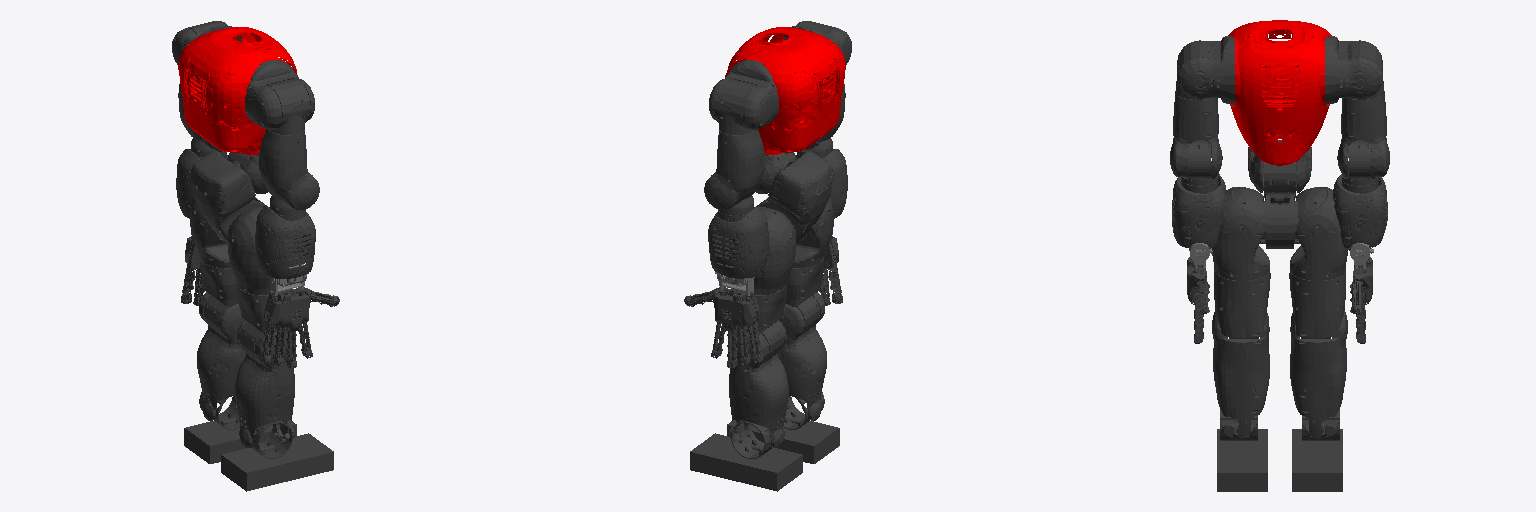
--- Facts derived from the render (not from the file) ---
3 views of the same robot in one strip: view 1: azimuth 30°, elevation 25°; view 2: azimuth 150°, elevation 25°; view 3: azimuth 270°, elevation 25° (orthographic).
Model coman with 63 links and 62 joints (29 revolute, 33 fixed), rooted at Waist, posed every joint at zero.
Links seen in each view (by area): view 1: DWYTorso, RLowLeg, RFoot, Waist, LLowLeg, RForearm, RShy, RSoftHand, RShp, RThighUpLeg, LFoot, LThighLowLeg (+8 smaller); view 2: DWYTorso, LLowLeg, LFoot, Waist, RLowLeg, LForearm, LShy, LSoftHand, LShp, LThighUpLeg, RFoot, RThighLowLeg (+8 smaller); view 3: DWYTorso, RLowLeg, LLowLeg, RThighUpLeg, LThighUpLeg, RForearm, LForearm, RThighLowLeg, LThighLowLeg, LShy, RShy, RShp (+16 smaller).
Boxes of the visible links, x1,y1,x2,y2 form: DWYTorso: (178, 27, 297, 154); RLowLeg: (235, 320, 294, 447); RFoot: (221, 433, 333, 491); Waist: (191, 151, 267, 242); LLowLeg: (197, 292, 245, 420); RForearm: (255, 206, 315, 283); RShy: (259, 128, 319, 209); RSoftHand: (260, 287, 339, 368); RShp: (245, 60, 314, 129); RThighUpLeg: (228, 217, 294, 294); LFoot: (184, 420, 296, 463); LThighLowLeg: (200, 259, 238, 334); DWYTorso: (725, 27, 845, 154); LLowLeg: (729, 320, 788, 447); LFoot: (690, 433, 802, 491); Waist: (756, 151, 832, 242); RLowLeg: (778, 292, 826, 420); LForearm: (708, 206, 768, 283); LShy: (704, 128, 764, 209); LSoftHand: (684, 287, 763, 368); LShp: (709, 60, 778, 129); LThighUpLeg: (729, 217, 795, 294); RFoot: (727, 420, 839, 463); RThighLowLeg: (785, 259, 823, 334); DWYTorso: (1228, 20, 1331, 165); RLowLeg: (1212, 311, 1269, 437); LLowLeg: (1290, 311, 1347, 437); RThighUpLeg: (1211, 187, 1269, 280); LThighUpLeg: (1290, 187, 1348, 280); RForearm: (1172, 173, 1226, 250); LForearm: (1333, 173, 1387, 250); RThighLowLeg: (1214, 271, 1270, 338); LThighLowLeg: (1289, 271, 1345, 338); LShy: (1337, 93, 1389, 176); RShy: (1170, 93, 1222, 176); RShp: (1177, 36, 1234, 104).
Size in the robot's own frame: 0.2484 by 0.4296 by 0.9235 metres.
30 mesh visuals loaded from 17 distinct referenced files (17 binary STL).

URDF robot description (coman):
<?xml version="1.0" ?>
<!-- =================================================================================== -->
<!-- |    This document was autogenerated by xacro from coman.urdf.xacro               | -->
<!-- |    EDITING THIS FILE BY HAND IS NOT RECOMMENDED                                 | -->
<!-- =================================================================================== -->
<robot name="coman" xmlns:xacro="http://ros.org/wiki/xacro">
  <!-- 
  ROS urdf definition of the COMAN humanoid robot by Istituto Italiano di Tecnologia
  
  DO NOT INCLUDE THIS FILE DIRECTLY! USE coman_robot.urdf.xacro INSTEAD!

  Author: Enrico Mingo & Alessio Rocchi

  Inertial matrix has to be in CoM frame (URDF specs)

  Velocity and effort limits are fake!
-->
  <!-- ************ MODEL CONFIGURATION ************ -->
  <!--
####################################################
##
##  FEET SELECTION
##
##
##
####################################################
-->
  <!--
####################################################
##
##  FOREARMS & HANDS SELECTION
##
##
##
####################################################
-->
  <!--
####################################################
##
##  Xtion SELECTION
##
##
## options:
## 1) COMAN classic without the staff to carry the sensor. 
##      Torso frame is connected to gaze link through a gaze_joint "fixed"
## 2) COMAN with staff and xtion sensor. Torso frame is connected to a xtion_staff_link through
##      a xtion_staff_joint "fixed". Xtion_staff_link is then connected to gaze_link through gaze_joint "fixed". 
##
####################################################
#
# 1/2 (true/false) 
#
-->
  <!-- ***********  MODEL COLORS *********** -->
  <material name="grey">
    <color rgba="0.5 0.5 0.5 1"/>
  </material>
  <material name="dark_grey">
    <color rgba="0.3 0.3 0.3 1"/>
  </material>
  <material name="dark_gray">
    <color rgba="0.3 0.3 0.3 1"/>
  </material>
  <material name="red">
    <color rgba="1.0 0.0 0.0 1"/>
  </material>
  <!-- Head -->
  <!-- This links are defined in order to be compliant with http://www.ros.org/reps/rep-0120.html#coordinate-frames
and to define the end effectors of the robot.
The coordinate frame called gaze defines the head position and orientation. The orientation indicates in which direction the head appears to be looking regardless of any sensors (camera for instance). -->
  <link name="gaze">
    <inertial>
      <origin rpy="0.0 0.0 0.0" xyz="0.0 0.0 0.0"/>
      <mass value="0.0"/>
      <inertia ixx="0.0" ixy="0.0" ixz="0.0" iyy="0.0" iyz="0.0" izz="0.0"/>
    </inertial>
  </link>
  <joint name="gaze_joint" type="fixed">
    <parent link="torso"/>
    <child link="gaze"/>
    <origin rpy="0 0 0" xyz="0 0 0.1"/>
  </joint>
  <!-- ************ COMAN BASE ************** -->
  <!-- 
  ROS urdf definition of the COMAN humanoid robot by Istituto Italiano di Tecnologia
  
  DO NOT INCLUDE THIS FILE DIRECTLY! USE coman_robot.urdf.xacro INSTEAD!

  Author: Enrico Mingo & Alessio Rocchi

  Inertial matrix has to be in CoM frame (URDF specs)

  Velocity and effort limits are fake!
-->
  <!-- This links are defined in order to be compliant with http://www.ros.org/reps/rep-0120.html#coordinate-frames
and to define the end effectors of the robot

The coordinate frame called base_link is rigidly attached to the robot root body. It is recommended to choose the robot waist as its root body. The base_link can be attached to the root in any arbitrary position or orientation; for every hardware platform there will be a different place on the base that provides an obvious point of reference. Note that REP 103 [1] specifies a preferred orientation for frames. -->
  <!--link name="base_link"--> <!-- if you put mass/inertia to 0 for the base_link in pybullet then the robot will not be affected by gravity (i.e. it will float). Just removing the base_link fixes the problem.>
    <inertial>
      <origin rpy="0.0 0.0 0.0" xyz="0.0 0.0 0.0"/>
      <mass value="0.0000001"/>
      <inertia ixx="0.0000001" ixy="0.0" ixz="0.0" iyy="0.0000001" iyz="0.0" izz="0.0000001"/>
    </inertial>
  </link-->
  <link name="Waist">
    <inertial>
      <origin rpy="0.0 0.0 0.0" xyz="-0.026391145 -5.8216364E-4 0.052632312"/>
      <mass value="1.8008695"/>
      <inertia ixx="0.0051032982" ixy="-5.7170981E-5" ixz="0.0016920543" iyy="0.006241636" iyz="1.7225949E-5" izz="0.0024517762"/>
    </inertial>
    <visual>
      <origin rpy="0 0 3.14159265359" xyz="0 0 -0.52"/>
      <material name="dark_grey"/>
      <geometry name="Waist_visual">
        <mesh filename="meshes/Waist.STL" scale="0.03937 0.03937 0.03937"/>
      </geometry>
    </visual>
    <collision>
      <origin rpy="0 0 3.14159265359" xyz="0 0 -0.52"/>
      <geometry name="Waist_collision">
        <mesh filename="meshes/simple/Waist.STL" scale="0.03937 0.03937 0.03937"/>
      </geometry>
    </collision>
  </link>
  <!--joint name="base_joint" type="fixed">
    <parent link="base_link"/>
    <child link="Waist"/>
    <origin rpy="0 0 0" xyz="0 0 0"/>
  </joint-->
  <!-- ********************TORSO******************** -->
  <!-- first real link of the robot, inertial reference frame -->
  <!-- Scale factor for meshes -->
  <!-- LINKS -->
  <!-- The coordinate frame called torso is attached to the lowest body of the model which is a parent of l_gripper, r_gripper and gaze. -->
  <link name="torso">
    <inertial>
      <origin rpy="0.0 0.0 0.0" xyz="0.0 0.0 0.0"/>
      <mass value="0.0"/>
      <inertia ixx="0.0" ixy="0.0" ixz="0.0" iyy="0.0" iyz="0.0" izz="0.0"/>
    </inertial>
  </link>
  <link name="DWL">
    <inertial>
      <origin rpy="0 0 0" xyz="4.2999707E-4 -0.0097650317 0.033011157"/>
      <mass value="0.54588774"/>
      <inertia ixx="9.7126578E-4" ixy="-7.2101244E-7" ixz="1.1440119E-6" iyy="7.4686706E-4" iyz="-1.7450917E-4" izz="6.2196235E-4"/>
    </inertial>
    <visual>
      <origin rpy="0 0 3.14159265359" xyz="-0.020281504 0 -0.63912053"/>
      <material name="dark_grey"/>
      <geometry name="DWL_visual">
        <mesh filename="meshes/Torso1.STL" scale="0.03937 0.03937 0.03937"/>
      </geometry>
    </visual>
    <collision>
      <origin rpy="0 0 3.14159265359" xyz="-0.020281504 0 -0.63912053"/>
      <geometry name="DWL_collision">
        <mesh filename="meshes/simple/Torso1.STL" scale="0.03937 0.03937 0.03937"/>
      </geometry>
    </collision>
  </link>
  <link name="DWS">
    <inertial>
      <origin rpy="0 0 0" xyz="-0.0021273416 0.0033575235 -0.0010076896"/>
      <mass value="0.75398402"/>
      <inertia ixx="3.4093348E-4" ixy="-6.2120042E-6" ixz="-1.3863473E-6" iyy="3.9581916E-4" iyz="1.443019E-6" izz="3.7449753E-4"/>
    </inertial>
    <visual>
      <origin rpy="0 0 3.14159265359" xyz="-0.020281504 0 -0.63912053"/>
      <material name="dark_grey"/>
      <geometry name="DWS_visual">
        <mesh filename="meshes/Torso2.STL" scale="0.03937 0.03937 0.03937"/>
      </geometry>
    </visual>
    <collision>
      <origin rpy="0 0 3.14159265359" xyz="-0.020281504 0 -0.63912053"/>
      <geometry name="DWS_collision">
        <mesh filename="meshes/simple/Torso2.STL" scale="0.03937 0.03937 0.03937"/>
      </geometry>
    </collision>
  </link>
  <link name="DWYTorso">
    <inertial>
      <origin rpy="0 0 0" xyz="-0.0358501 1.8286043E-5 0.117557148"/>
      <mass value="6.3617175"/>
      <inertia ixx="0.034089342" ixy="-9.8308572E-6" ixz="-7.5649290E-4" iyy="0.030117357" iyz="6.2443771E-6" izz="0.025296582"/>
    </inertial>
    <visual>
      <origin rpy="0 0 3.14159265359" xyz="-0.020281504 0.0 -0.68662053"/>
      <material name="red"/>
      <geometry name="DWYTorso_visual">
        <mesh filename="meshes/Torso3.STL" scale="0.03937 0.03937 0.03937"/>
      </geometry>
    </visual>
    <collision>
      <origin rpy="0 0 3.14159265359" xyz="-0.020281504 0.0 -0.68662053"/>
      <geometry name="DWYTorso_collision">
        <mesh filename="meshes/simple/Torso3.STL" scale="0.03937 0.03937 0.03937"/>
      </geometry>
    </collision>
  </link>
  <!-- JOINTS -->
  <joint name="torso_joint" type="fixed">
    <parent link="DWYTorso"/>
    <child link="torso"/>
    <origin rpy="0 0 0" xyz="-0.014976503999999998 0 0.15770847"/>
  </joint>
  <joint name="WaistLat" type="revolute">
    <parent link="Waist"/>
    <child link="DWL"/>
    <origin rpy="0 0 0" xyz="0.020281504 0 0.11912053"/>
    <axis xyz="0.93969262078 0 0.34202014332"/>
    <limit effort="50" lower="-0.5236" upper="0.5235" velocity="4.0"/>
    <!-- dynamics friction="0" damping="0.3"/ -->
    <dynamics damping="3.0" friction="0"/>
  </joint>
  <joint name="WaistSag" type="revolute">
    <parent link="DWL"/>
    <child link="DWS"/>
    <origin rpy="0 0 0" xyz="0 0 0"/>
    <axis xyz="0 1 0"/>
    <limit effort="50" lower="-0.3491" upper="0.8727" velocity="4.0"/>
    <dynamics damping="3.0" friction="0"/>
  </joint>
  <joint name="WaistYaw" type="revolute">
    <parent link="DWS"/>
    <child link="DWYTorso"/>
    <origin rpy="0 0 0" xyz="0 0 0.04749999"/>
    <axis xyz="0 0 1"/>
    <limit effort="50" lower="-1.3963" upper="1.3962" velocity="4.0"/>
    <dynamics damping="3.0" friction="0"/>
  </joint>
  <!-- ********************LEGS******************** -->
  <!-- This links are defined in order to be compliant with http://www.ros.org/reps/rep-0120.html#coordinate-frames
and to define the end effectors of the robot -->
  <!--  position and orientation of the leg regardless of the support body geometry -->
  <link name="l_ankle">
    <inertial>
      <origin rpy="0.0 0.0 0.0" xyz="0.0 0.0 0.0"/>
      <mass value="0.0"/>
      <inertia ixx="0.0" ixy="0.0" ixz="0.0" iyy="0.0" iyz="0.0" izz="0.0"/>
    </inertial>
  </link>
  <link name="r_ankle">
    <inertial>
      <origin rpy="0.0 0.0 0.0" xyz="0.0 0.0 0.0"/>
      <mass value="0.0"/>
      <inertia ixx="0.0" ixy="0.0" ixz="0.0" iyy="0.0" iyz="0.0" izz="0.0"/>
    </inertial>
  </link>
  <!-- position and orientation of the left leg support body. The (X,Y) plane of this frame must be coplanar with the support body contact surface. It is recommended to choose the origin as the projection of the support body origin on the contact surface. The Z coordinate of this frame should be on the ground level when standing. -->
  <link name="l_sole">
    <inertial>
      <origin rpy="0.0 0.0 0.0" xyz="0.0 0.0 0.0"/>
      <mass value="0.0"/>
      <inertia ixx="0.0" ixy="0.0" ixz="0.0" iyy="0.0" iyz="0.0" izz="0.0"/>
    </inertial>
  </link>
  <link name="r_sole">
    <inertial>
      <origin rpy="0.0 0.0 0.0" xyz="0.0 0.0 0.0"/>
      <mass value="0.0"/>
      <inertia ixx="0.0" ixy="0.0" ixz="0.0" iyy="0.0" iyz="0.0" izz="0.0"/>
    </inertial>
  </link>
  <!--  position and orientation of the leg toe body. The (X,Y) plan of this frame must be coplanar with the toe body contact surface. It is recommended to choose the origin as the projection of the body center on the contact surface. -->
  <link name="l_toe">
    <inertial>
      <origin rpy="0.0 0.0 0.0" xyz="0.0 0.0 0.0"/>
      <mass value="0.0"/>
      <inertia ixx="0.0" ixy="0.0" ixz="0.0" iyy="0.0" iyz="0.0" izz="0.0"/>
    </inertial>
  </link>
  <link name="r_toe">
    <inertial>
      <origin rpy="0.0 0.0 0.0" xyz="0.0 0.0 0.0"/>
      <mass value="0.0"/>
      <inertia ixx="0.0" ixy="0.0" ixz="0.0" iyy="0.0" iyz="0.0" izz="0.0"/>
    </inertial>
  </link>
  <!-- Scale factor for meshes -->
  <!-- LINKS -->
  <!-- ********************RIGHT LEG******************** -->
  <link name="RHipMot">
    <inertial>
      <origin rpy="0 0 0" xyz="-3.269678E-4 -0.023587321 -2.6496509E-4"/>
      <mass value="0.89258227"/>
      <inertia ixx="4.7672294E-4" ixy="-3.9936567E-6" ixz="-2.4802574E-6" iyy="5.458038E-4" iyz="-3.3389575E-6" izz="5.126859E-4"/>
    </inertial>
    <visual>
      <origin rpy="0 0 3.14159265359" xyz="0.0 0.023 -0.52"/>
      <material name="dark_grey"/>
      <geometry name="RHipMot_visual">
        <mesh filename="meshes/Leg0.STL" scale="0.03937 0.03937 0.03937"/>
      </geometry>
    </visual>
    <collision>
      <origin rpy="0 0 3.14159265359" xyz="0.0 0.023 -0.52"/>
      <geometry name="RHipMot_collision">
        <mesh filename="meshes/simple/Leg0.STL" scale="0.03937 0.03937 0.03937"/>
      </geometry>
    </collision>
  </link>
  <link name="RThighUpLeg">
    <inertial>
      <origin rpy="0 0 0" xyz="0.0012591632 -0.016896372 -0.058903336"/>
      <mass value="1.0246101"/>
      <inertia ixx="9.165719E-4" ixy="-1.4449904E-6" ixz="-1.6685011E-5" iyy="0.00104849584" iyz="2.5492874E-5" izz="6.8637197E-4"/>
    </inertial>
    <visual>
      <origin rpy="0 0 3.14159265359" xyz="0.0 0.0726 -0.52"/>
      <material name="dark_grey"/>
      <geometry name="RThighUpLeg_visual">
        <mesh filename="meshes/Leg1.STL" scale="0.03937 0.03937 0.03937"/>
      </geometry>
    </visual>
    <collision>
      <origin rpy="0 0 3.14159265359" xyz="0.0 0.0726 -0.52"/>
      <geometry name="RThighUpLeg_collision">
        <mesh filename="meshes/simple/Leg1.STL" scale="0.03937 0.03937 0.03937"/>
      </geometry>
    </collision>
  </link>
  <link name="RThighLowLeg">
    <inertial>
      <origin rpy="0 0 0" xyz="9.8720058E-4 6.7037262E-4 -0.075716843"/>
      <mass value="1.7001134"/>
      <inertia ixx="0.0038979546" ixy="1.7802399E-6" ixz="2.6403262E-5" iyy="0.0039360845" iyz="4.522711E-5" izz="9.0218711E-4"/>
    </inertial>
    <visual>
      <origin rpy="0 0 3.14159265359" xyz="0.0 0.0726 -0.4176"/>
      <material name="dark_grey"/>
      <geometry name="RThighLowLeg_visual">
        <mesh filename="meshes/Leg2.STL" scale="0.03937 0.03937 0.03937"/>
      </geometry>
    </visual>
    <collision>
      <origin rpy="0 0 3.14159265359" xyz="0.0 0.0726 -0.4176"/>
      <geometry name="RThighLowLeg_collision">
        <mesh filename="meshes/simple/Leg2.STL" scale="0.03937 0.03937 0.03937"/>
      </geometry>
    </collision>
  </link>
  <link name="RLowLeg">
    <inertial>
      <origin rpy="0 0 0" xyz="0.0024612666 -0.0053099614 -0.08598948"/>
      <mass value="1.4098179"/>
      <inertia ixx="0.0040604004" ixy="1.1227206E-5" ixz="1.2260973E-5" iyy="0.004005652855" iyz="5.1899176E-4" izz="0.0012414054"/>
    </inertial>
    <visual>
      <origin rpy="0 0 3.14159265359" xyz="0.0 0.0726 -0.2942"/>
      <material name="dark_grey"/>
      <geometry name="RLowLeg_visual">
        <mesh filename="meshes/Leg3.STL" scale="0.03937 0.03937 0.03937"/>
      </geometry>
    </visual>
    <collision>
      <origin rpy="0 0 3.14159265359" xyz="0.0 0.0726 -0.2942"/>
      <geometry name="RLowLeg_collision">
        <mesh filename="meshes/simple/Leg3.STL" scale="0.03937 0.03937 0.03937"/>
      </geometry>
    </collision>
  </link>
  <link name="RFootmot">
    <inertial>
      <origin rpy="0 0 0" xyz="8.8067281E-4 -9.2224881E-4 2.3038476E-4"/>
      <mass value="0.72992131"/>
      <inertia ixx="3.2034425E-4" ixy="7.6346303E-6" ixz="2.5430158E-7" iyy="3.6584358E-4" iyz="-3.6889276E-6" izz="3.6065156E-4"/>
    </inertial>
    <visual>
      <origin rpy="0 0 3.14159265359" xyz="0.0 0.0726 -0.0932"/>
      <material name="dark_grey"/>
      <geometry name="RFootmot_visual">
        <mesh filename="meshes/Leg4.STL" scale="0.03937 0.03937 0.03937"/>
      </geometry>
    </visual>
    <collision>
      <origin rpy="0 0 3.14159265359" xyz="0.0 0.0726 -0.0932"/>
      <geometry name="RFootmot_collision">
        <mesh filename="meshes/simple/Leg4.STL" scale="0.03937 0.03937 0.03937"/>
      </geometry>
    </collision>
  </link>
  <link name="RFoot">
    <inertial>
      <origin rpy="0 0 0" xyz="0.00969210464 -0.0090460227 -0.043062308"/>
      <mass value="0.66646684"/>
      <inertia ixx="0.0012944808" ixy="-9.2387693E-5" ixz="2.0080105E-4" iyy="0.0015851846" iyz="2.7599327E-4" izz="0.0013326766"/>
    </inertial>
    <visual>
      <origin rpy="0 0 0" xyz="0.03 0 -0.07"/>
      <geometry>
        <box size="0.2 0.1 0.04"/>
      </geometry>
      <material name="dark_gray"/>
    </visual>
    <collision>
      <origin rpy="0 0 0" xyz="0.03 0 -0.07"/>
      <geometry>
        <box size="0.2 0.1 0.04"/>
      </geometry>
    </collision>
  </link>
  <!-- ********************LEFT LEG******************** -->
  <link name="LHipMot">
    <inertial>
      <origin rpy="0 0 0" xyz="-3.269678E-4 0.023587321 -2.6496509E-4"/>
      <mass value="0.89258227"/>
      <inertia ixx="4.7672294E-4" ixy="3.9936567E-6" ixz="-2.4802574E-6" iyy="5.458038E-4" iyz="3.3389575E-6" izz="5.126859E-4"/>
    </inertial>
    <visual>
      <origin rpy="0 0 3.14159265359" xyz="0.0 -0.023 -0.52"/>
      <material name="dark_grey"/>
      <geometry name="RHipMot_visual">
        <mesh filename="meshes/Leg0.STL" scale="0.03937 -0.03937 0.03937"/>
      </geometry>
    </visual>
    <collision>
      <origin rpy="0 0 3.14159265359" xyz="0.0 -0.023 -0.52"/>
      <geometry name="RHipMot_collision">
        <mesh filename="meshes/simple/Leg0.STL" scale="0.03937 -0.03937 0.03937"/>
      </geometry>
    </collision>
  </link>
  <link name="LThighUpLeg">
    <inertial>
      <origin rpy="0 0 0" xyz="0.0012591632 0.016896372 -0.058903336"/>
      <mass value="1.0246101"/>
      <inertia ixx="9.165719E-4" ixy="1.4449904E-6" ixz="-1.6685011E-5" iyy="0.00104849584" iyz="-2.5492874E-5" izz="6.8637197E-4"/>
    </inertial>
    <visual>
      <origin rpy="0 0 3.14159265359" xyz="0.0 -0.0726 -0.52"/>
      <material name="dark_grey"/>
      <geometry name="LThighUpLeg_visual">
        <mesh filename="meshes/Leg1.STL" scale="0.03937 -0.03937 0.03937"/>
      </geometry>
    </visual>
    <collision>
      <origin rpy="0 0 3.14159265359" xyz="0.0 -0.0726 -0.52"/>
      <geometry name="LThighUpLeg_collision">
        <mesh filename="meshes/simple/Leg1.STL" scale="0.03937 -0.03937 0.03937"/>
      </geometry>
    </collision>
  </link>
  <link name="LThighLowLeg">
    <inertial>
      <origin rpy="0 0 0" xyz="9.8720058E-4 -6.7037262E-4 -0.075716843"/>
      <mass value="1.7001134"/>
      <inertia ixx="0.0038979546" ixy="-1.7802399E-6" ixz="2.6403262E-5" iyy="0.0039360845" iyz="-4.5227110E-5" izz="9.0218711E-4"/>
    </inertial>
    <visual>
      <origin rpy="0 0 3.14159265359" xyz="0.0 -0.0726 -0.4176"/>
      <material name="dark_grey"/>
      <geometry name="LThighLowLeg_visual">
        <mesh filename="meshes/Leg2.STL" scale="0.03937 -0.03937 0.03937"/>
      </geometry>
    </visual>
    <collision>
      <origin rpy="0 0 3.14159265359" xyz="0.0 -0.0726 -0.4176"/>
      <geometry name="LThighLowLeg_collision">
        <mesh filename="meshes/simple/Leg2.STL" scale="0.03937 -0.03937 0.03937"/>
      </geometry>
    </collision>
  </link>
  <link name="LLowLeg">
    <inertial>
      <origin rpy="0 0 0" xyz="0.0024612666 0.0053099614 -0.085989484"/>
      <mass value="1.4098179"/>
      <inertia ixx="0.0040604004" ixy="-1.1227206E-5" ixz="1.2260973E-5" iyy="0.004005652855" iyz="-5.1899176E-4" izz="0.0012414054"/>
    </inertial>
    <visual>
      <origin rpy="0 0 3.14159265359" xyz="0.0 -0.0726 -0.2942"/>
      <material name="dark_grey"/>
      <geometry name="LLowLeg_visual">
        <mesh filename="meshes/Leg3.STL" scale="0.03937 -0.03937 0.03937"/>
      </geometry>
    </visual>
    <collision>
      <origin rpy="0 0 3.14159265359" xyz="0.0 -0.0726 -0.2942"/>
      <geometry name="LLowLeg_collision">
        <mesh filename="meshes/simple/Leg3.STL" scale="0.03937 -0.03937 0.03937"/>
      </geometry>
    </collision>
  </link>
  <link name="LFootmot">
    <inertial>
      <origin rpy="0 0 0" xyz="8.8067281E-4 9.2224881E-4 2.3038476E-4"/>
      <mass value="0.72992131"/>
      <inertia ixx="3.2034425E-4" ixy="-7.6346303E-6" ixz="2.5430158E-7" iyy="3.6584358E-4" iyz="3.6889276E-6" izz="3.6065156E-4"/>
    </inertial>
    <visual>
      <origin rpy="0 0 3.14159265359" xyz="0.0 -0.0726 -0.0932"/>
      <material name="dark_grey"/>
      <geometry name="LFootmot_visual">
        <mesh filename="meshes/Leg4.STL" scale="0.03937 -0.03937 0.03937"/>
      </geometry>
    </visual>
    <collision>
      <origin rpy="0 0 3.14159265359" xyz="0.0 -0.0726 -0.0932"/>
      <geometry name="LFootmot_collision">
        <mesh filename="meshes/simple/Leg4.STL" scale="0.03937 -0.03937 0.03937"/>
      </geometry>
    </collision>
  </link>
  <link name="LFoot">
    <inertial>
      <origin rpy="0 0 0" xyz="0.0096921046 0.0090460227 -0.043062308"/>
      <mass value="0.66646684"/>
      <inertia ixx="0.0012944808" ixy="9.2387693E-5" ixz="2.0080105E-4" iyy="0.0015851846" iyz="-2.7599327E-4" izz="0.0013326766"/>
    </inertial>
    <visual>
      <origin rpy="0 0 0" xyz="0.03 0 -0.07"/>
      <geometry>
        <box size="0.2 0.1 0.04"/>
      </geometry>
      <material name="dark_gray"/>
    </visual>
    <collision>
      <origin rpy="0 0 0" xyz="0.03 0 -0.07"/>
      <geometry>
        <box size="0.2 0.1 0.04"/>
      </geometry>
    </collision>
  </link>
  <!-- JOINTS -->
  <!-- ********************RIGHT LEG******************** -->
  <joint name="RHipSag" type="revolute">
    <parent link="Waist"/>
    <child link="RHipMot"/>
    <origin rpy="0 0 0" xyz="0.0 -0.023 0.0"/>
    <axis xyz="0 1 0"/>
    <limit effort="50" lower="-1.9199" upper="0.7854" velocity="4.0"/>
    <dynamics damping="3.0" friction="0"/>
  </joint>
  <joint name="RHipLat" type="revolute">
    <parent link="RHipMot"/>
    <child link="RThighUpLeg"/>
    <origin rpy="0 0 0" xyz="0.0 -0.0496 0.0"/>
    <axis xyz="1 0 0"/>
    <limit effort="50" lower="-1.0472" upper="0.4363" velocity="4.0"/>
    <dynamics damping="3.0" friction="0"/>
  </joint>
  <joint name="RHipYaw" type="revolute">
    <parent link="RThighUpLeg"/>
    <child link="RThighLowLeg"/>
    <origin rpy="0 0 0" xyz="0.0 0.0 -0.1024"/>
    <axis xyz="0 0 1"/>
    <limit effort="50" lower="-0.8727" upper="0.8727" velocity="4.0"/>
    <dynamics damping="3.0" friction="0"/>
  </joint>
  <joint name="RKneeSag" type="revolute">
    <parent link="RThighLowLeg"/>
    <child link="RLowLeg"/>
    <origin rpy="0 0 0" xyz="0.0 0.0 -0.1234"/>
    <axis xyz="0 1 0"/>
    <limit effort="50" lower="-0.1745" upper="1.9199" velocity="4.0"/>
    <dynamics damping="3.0" friction="0"/>
  </joint>
  <joint name="RAnkLat" type="revolute">
    <parent link="RLowLeg"/>
    <child link="RFootmot"/>
    <origin rpy="0 0 0" xyz="0.0 0.0 -0.201"/>
    <axis xyz="1 0 0"/>
    <limit effort="50" lower="-0.6109" upper="0.6109" velocity="4.0"/>
    <dynamics damping="3.0" friction="0"/>
  </joint>
  <joint name="RAnkSag" type="revolute">
    <parent link="RFootmot"/>
    <child link="RFoot"/>
    <origin rpy="0 0 0" xyz="0.0 0.0 0.0"/>
    <axis xyz="0 1 0"/>
    <limit effort="50" lower="-1.2217" upper="1.2217" velocity="4.0"/>
    <dynamics damping="3.0" friction="0"/>
  </joint>
  <!-- ********************LEFT LEG******************** -->
  <joint name="LHipSag" type="revolute">
    <parent link="Waist"/>
    <child link="LHipMot"/>
    <origin rpy="0 0 0" xyz="0.0 0.023 0.0"/>
    <axis xyz="0 1 0"/>
    <limit effort="50" lower="-1.9199" upper="0.7854" velocity="4.0"/>
    <dynamics damping="3.0" friction="0"/>
  </joint>
  <joint name="LHipLat" type="revolute">
    <parent link="LHipMot"/>
    <child link="LThighUpLeg"/>
    <origin rpy="0 0 0" xyz="0.0 0.0496 0.0"/>
    <axis xyz="1 0 0"/>
    <limit effort="50" lower="-0.4363" upper="1.0472" velocity="4.0"/>
    <dynamics damping="3.0" friction="0"/>
  </joint>
  <joint name="LHipYaw" type="revolute">
    <parent link="LThighUpLeg"/>
    <child link="LThighLowLeg"/>
    <origin rpy="0 0 0" xyz="0.0 0.0 -0.1024"/>
    <axis xyz="0 0 1"/>
    <limit effort="50" lower="-0.8727" upper="0.8727" velocity="4.0"/>
    <dynamics damping="3.0" friction="0"/>
  </joint>
  <joint name="LKneeSag" type="revolute">
    <parent link="LThighLowLeg"/>
    <child link="LLowLeg"/>
    <origin rpy="0 0 0" xyz="0.0 0.0 -0.1234"/>
    <axis xyz="0 1 0"/>
    <limit effort="50" lower="-0.1745" upper="1.9199" velocity="4.0"/>
    <dynamics damping="3.0" friction="0"/>
  </joint>
  <joint name="LAnkLat" type="revolute">
    <parent link="LLowLeg"/>
    <child link="LFootmot"/>
    <origin rpy="0 0 0" xyz="0.0 0.0 -0.201"/>
    <axis xyz="1 0 0"/>
    <limit effort="50" lower="-0.6109" upper="0.6109" velocity="4.0"/>
    <dynamics damping="3.0" friction="0"/>
  </joint>
  <joint name="LAnkSag" type="revolute">
    <parent link="LFootmot"/>
    <child link="LFoot"/>
    <origin rpy="0 0 0" xyz="0.0 0.0 0.0"/>
    <axis xyz="0 1 0"/>
    <limit effort="50" lower="-1.2217" upper="1.2217" velocity="4.0"/>
    <dynamics damping="3.0" friction="0"/>
  </joint>
  <joint name="l_ankle_joint" type="fixed">
    <parent link="LFoot"/>
    <child link="l_ankle"/>
    <origin rpy="0 0 0" xyz="0 0 0"/>
  </joint>
  <joint name="r_ankle_joint" type="fixed">
    <parent link="RFoot"/>
    <child link="r_ankle"/>
    <origin rpy="0 0 0" xyz="0 0 0"/>
  </joint>
  <joint name="l_sole_joint" type="fixed">
    <parent link="LFoot"/>
    <child link="l_sole"/>
    <origin rpy="0 0 0" xyz="0 0 -0.09"/>
  </joint>
  <joint name="r_sole_joint" type="fixed">
    <parent link="RFoot"/>
    <child link="r_sole"/>
    <origin rpy="0 0 0" xyz="0 0 -0.09"/>
  </joint>
  <joint name="l_toe_joint" type="fixed">
    <parent link="l_sole"/>
    <child link="l_toe"/>
    <origin rpy="0 0 0" xyz="0.13 0 0"/>
  </joint>
  <joint name="r_toe_joint" type="fixed">
    <parent link="r_sole"/>
    <child link="r_toe"/>
    <origin rpy="0 0 0" xyz="0.13 0 0"/>
  </joint>
  <!-- Reference frames in feet -->
  <!-- macro for reference frames in foot -->
  <!-- macro for one reference frame in foot -->
  <link name="l_foot_upper_right_link">
    <inertial>
      <origin rpy="0.0 0.0 0.0" xyz="0.0 0.0 0.0"/>
      <mass value="0.0"/>
      <inertia ixx="0.0" ixy="0.0" ixz="0.0" iyy="0.0" iyz="0.0" izz="0.0"/>
    </inertial>
  </link>
  <joint name="l_foot_upper_right_joint" type="fixed">
    <origin rpy="0 0 0" xyz="0.13 -0.05 0"/>
    <parent link="l_sole"/>
    <child link="l_foot_upper_right_link"/>
  </joint>
  <!-- macro for one reference frame in foot -->
  <link name="l_foot_upper_left_link">
    <inertial>
      <origin rpy="0.0 0.0 0.0" xyz="0.0 0.0 0.0"/>
      <mass value="0.0"/>
      <inertia ixx="0.0" ixy="0.0" ixz="0.0" iyy="0.0" iyz="0.0" izz="0.0"/>
    </inertial>
  </link>
  <joint name="l_foot_upper_left_joint" type="fixed">
    <origin rpy="0 0 0" xyz="0.13 0.05 0"/>
    <parent link="l_sole"/>
    <child link="l_foot_upper_left_link"/>
  </joint>
  <!-- macro for one reference frame in foot -->
  <link name="l_foot_lower_right_link">
    <inertial>
      <origin rpy="0.0 0.0 0.0" xyz="0.0 0.0 0.0"/>
      <mass value="0.0"/>
      <inertia ixx="0.0" ixy="0.0" ixz="0.0" iyy="0.0" iyz="0.0" izz="0.0"/>
    </inertial>
  </link>
  <joint name="l_foot_lower_right_joint" type="fixed">
    <origin rpy="0 0 0" xyz="-0.07 -0.05 0"/>
    <parent link="l_sole"/>
    <child link="l_foot_lower_right_link"/>
  </joint>
  <!-- macro for one reference frame in foot -->
  <link name="l_foot_lower_left_link">
    <inertial>
      <origin rpy="0.0 0.0 0.0" xyz="0.0 0.0 0.0"/>
      <mass value="0.0"/>
      <inertia ixx="0.0" ixy="0.0" ixz="0.0" iyy="0.0" iyz="0.0" izz="0.0"/>
    </inertial>
  </link>
  <joint name="l_foot_lower_left_joint" type="fixed">
    <origin rpy="0 0 0" xyz="-0.07 0.05 0"/>
    <parent link="l_sole"/>
    <child link="l_foot_lower_left_link"/>
  </joint>
  <!-- macro for reference frames in foot -->
  <!-- macro for one reference frame in foot -->
  <link name="r_foot_upper_right_link">
    <inertial>
      <origin rpy="0.0 0.0 0.0" xyz="0.0 0.0 0.0"/>
      <mass value="0.0"/>
      <inertia ixx="0.0" ixy="0.0" ixz="0.0" iyy="0.0" iyz="0.0" izz="0.0"/>
    </inertial>
  </link>
  <joint name="r_foot_upper_right_joint" type="fixed">
    <origin rpy="0 0 0" xyz="0.13 -0.05 0"/>
    <parent link="r_sole"/>
    <child link="r_foot_upper_right_link"/>
  </joint>
  <!-- macro for one reference frame in foot -->
  <link name="r_foot_upper_left_link">
    <inertial>
      <origin rpy="0.0 0.0 0.0" xyz="0.0 0.0 0.0"/>
      <mass value="0.0"/>
      <inertia ixx="0.0" ixy="0.0" ixz="0.0" iyy="0.0" iyz="0.0" izz="0.0"/>
    </inertial>
  </link>
  <joint name="r_foot_upper_left_joint" type="fixed">
    <origin rpy="0 0 0" xyz="0.13 0.05 0"/>
    <parent link="r_sole"/>
    <child link="r_foot_upper_left_link"/>
  </joint>
  <!-- macro for one reference frame in foot -->
  <link name="r_foot_lower_right_link">
    <inertial>
      <origin rpy="0.0 0.0 0.0" xyz="0.0 0.0 0.0"/>
      <mass value="0.0"/>
      <inertia ixx="0.0" ixy="0.0" ixz="0.0" iyy="0.0" iyz="0.0" izz="0.0"/>
    </inertial>
  </link>
  <joint name="r_foot_lower_right_joint" type="fixed">
    <origin rpy="0 0 0" xyz="-0.07 -0.05 0"/>
    <parent link="r_sole"/>
    <child link="r_foot_lower_right_link"/>
  </joint>
  <!-- macro for one reference frame in foot -->
  <link name="r_foot_lower_left_link">
    <inertial>
      <origin rpy="0.0 0.0 0.0" xyz="0.0 0.0 0.0"/>
      <mass value="0.0"/>
      <inertia ixx="0.0" ixy="0.0" ixz="0.0" iyy="0.0" iyz="0.0" izz="0.0"/>
    </inertial>
  </link>
  <joint name="r_foot_lower_left_joint" type="fixed">
    <origin rpy="0 0 0" xyz="-0.07 0.05 0"/>
    <parent link="r_sole"/>
    <child link="r_foot_lower_left_link"/>
  </joint>
  <!-- ********************ARMS******************** -->
  <!-- Scale factor for meshes -->
  <!-- LINKS -->
  <!-- RIGHT ARM -->
  <link name="RShp">
    <inertial>
      <origin rpy="0 0 0" xyz="0.0099500565 -0.038682024 1.6446924E-4"/>
      <mass value="0.56782202"/>
      <inertia ixx="7.8337456E-4" ixy="1.9035768E-4" ixz="-3.0037676E-6" iyy="6.3399921E-4" iyz="4.3840774E-6" izz="0.001008054"/>
    </inertial>
    <visual>
      <origin rpy="0 0 3.14159265359" xyz="-0.005305 0.0825 -0.844329"/>
      <material name="dark_grey"/>
      <geometry name="RShp_visual">
        <mesh filename="meshes/Arm0.STL" scale="0.03937 0.03937 0.03937"/>
      </geometry>
    </visual>
    <collision>
      <origin rpy="0 0 3.14159265359" xyz="-0.005305 0.0825 -0.844329"/>
      <geometry name="RShp_collision">
        <mesh filename="meshes/simple/Arm0.STL" scale="0.03937 0.03937 0.03937"/>
      </geometry>
    </collision>
  </link>
  <link name="RShr">
    <inertial>
      <origin rpy="0 0 0" xyz="-0.0038936743 2.2022151E-6 -0.0048616005"/>
      <mass value="0.77683752"/>
      <inertia ixx="4.5812904E-4" ixy="-2.4111086E-7" ixz="9.2521185E-6" iyy="4.3089204E-4" iyz="-4.7216950E-7" izz="3.4174855E-4"/>
    </inertial>
    <visual>
      <origin rpy="0 0 3.14159265359" xyz="-0.005305 0.1558 -0.844329"/>
      <material name="dark_grey"/>
      <geometry name="RShr_visual">
        <mesh filename="meshes/Arm1.STL" scale="0.03937 0.03937 0.03937"/>
      </geometry>
    </visual>
    <collision>
      <origin rpy="0 0 3.14159265359" xyz="-0.005305 0.1558 -0.844329"/>
      <geometry name="RShr_collision">
        <mesh filename="meshes/simple/Arm1.STL" scale="0.03937 0.03937 0.03937"/>
      </geometry>
    </collision>
  </link>
  <link name="RShy">
    <inertial>
      <origin rpy="0 0 0" xyz="0.0022714213 -0.0071091517 -0.057455221"/>
      <mass value="1.0462304"/>
      <inertia ixx="0.0030934574" ixy="6.6702837E-5" ixz="3.0222291E-4" iyy="0.0029181573" iyz="-5.2663661E-4" izz="8.0830389E-4"/>
    </inertial>
    <visual>
      <origin rpy="0 0 3.14159265359" xyz="-0.005305 0.1558 -0.79952053"/>
      <material name="dark_grey"/>
      <geometry name="RShy_visual">
        <mesh filename="meshes/Arm2.STL" scale="0.03937 0.03937 0.03937"/>
      </geometry>
    </visual>
    <collision>
      <origin rpy="0 0 3.14159265359" xyz="-0.005305 0.1558 -0.79952053"/>
      <geometry name="RShy_collision">
        <mesh filename="meshes/simple/Arm2.STL" scale="0.03937 0.03937 0.03937"/>
      </geometry>
    </collision>
  </link>
  <link name="RElb">
    <inertial>
      <origin rpy="0 0 0" xyz="-6.5553403E-4 -9.3464748E-4 -9.3101289E-4"/>
      <mass value="0.63306933"/>
      <inertia ixx="2.2599075E-4" ixy="-2.6376470E-7" ixz="-9.8007285E-6" iyy="2.7781302E-4" iyz="-2.0435288E-6" izz="2.1878992E-4"/>
    </inertial>
    <visual>
      <origin rpy="-1.570796326795 1.570796326795 0" xyz="0 0 0"/>
      <material name="dark_grey"/>
      <geometry name="RElb_visual">
        <mesh filename="meshes/Elbow.STL" scale="1.0 1.0 1.0"/>
      </geometry>
    </visual>
    <collision>
      <origin rpy="-1.570796326795 1.570796326795 0" xyz="0 0 0"/>
      <geometry name="RElb_collision">
        <mesh filename="meshes/simple/Elbow.STL" scale="1.0 1.0 1.0"/>
      </geometry>
    </collision>
  </link>
  <!-- LEFT ARM -->
  <link name="LShp">
    <inertial>
      <origin rpy="0 0 0" xyz="0.0099500565 0.038682024 1.6446924E-4"/>
      <mass value="0.56782202"/>
      <inertia ixx="7.8337456E-4" ixy="-1.9035768E-4" ixz="-3.0037676E-6" iyy="6.3399921E-4" iyz="-4.3840774E-6" izz="0.001008054"/>
    </inertial>
    <visual>
      <origin rpy="0 0 3.14159265359" xyz="-0.005305 -0.0825 -0.844329"/>
      <material name="dark_grey"/>
      <geometry name="LShp_visual">
        <mesh filename="meshes/Arm0.STL" scale="0.03937 -0.03937 0.03937"/>
      </geometry>
    </visual>
    <collision>
      <origin rpy="0 0 3.14159265359" xyz="-0.005305 -0.0825 -0.844329"/>
      <geometry name="LShp_collision">
        <mesh filename="meshes/simple/Arm0.STL" scale="0.03937 -0.03937 0.03937"/>
      </geometry>
    </collision>
  </link>
  <link name="LShr">
    <inertial>
      <origin rpy="0 0 0" xyz="-0.0038936743 -2.2022151E-6 -0.0048616005"/>
      <mass value="0.77683752"/>
      <inertia ixx="4.5812904E-4" ixy="2.4111086E-7" ixz="9.2521185E-6" iyy="4.3089204E-4" iyz="4.721695E-7" izz="3.4174855E-4"/>
    </inertial>
    <visual>
      <origin rpy="0 0 3.14159265359" xyz="-0.005305 -0.1558 -0.844329"/>
      <material name="dark_grey"/>
      <geometry name="LShr_visual">
        <mesh filename="meshes/Arm1.STL" scale="0.03937 -0.03937 0.03937"/>
      </geometry>
    </visual>
    <collision>
      <origin rpy="0 0 3.14159265359" xyz="-0.005305 -0.1558 -0.844329"/>
      <geometry name="LShr_collision">
        <mesh filename="meshes/simple/Arm1.STL" scale="0.03937 -0.03937 0.03937"/>
      </geometry>
    </collision>
  </link>
  <link name="LShy">
    <inertial>
      <origin rpy="0 0 0" xyz="0.0022714213 0.0071091517 -0.057455221"/>
      <mass value="1.0462304"/>
      <inertia ixx="0.0030934574" ixy="-6.6702837E-5" ixz="3.0222291E-4" iyy="0.0029181573" iyz="5.2663661E-4" izz="8.0830389E-4"/>
    </inertial>
    <visual>
      <origin rpy="0 0 3.14159265359" xyz="-0.005305 -0.1558 -0.79952053"/>
      <material name="dark_grey"/>
      <geometry name="LShy_visual">
        <mesh filename="meshes/Arm2.STL" scale="0.03937 -0.03937 0.03937"/>
      </geometry>
    </visual>
    <collision>
      <origin rpy="0 0 3.14159265359" xyz="-0.005305 -0.1558 -0.79952053"/>
      <geometry name="LShy_collision">
        <mesh filename="meshes/simple/Arm2.STL" scale="0.03937 -0.03937 0.03937"/>
      </geometry>
    </collision>
  </link>
  <link name="LElb">
    <inertial>
      <origin rpy="0 0 0" xyz="-6.5553403E-4 9.3464748E-4 -9.3101289E-4"/>
      <mass value="0.63306933"/>
      <inertia ixx="2.2599075E-4" ixy="2.6376470E-7" ixz="-9.8007285E-6" iyy="2.7781302E-4" iyz="2.0435288E-6" izz="2.1878992E-4"/>
    </inertial>
    <visual>
      <origin rpy="-1.570796326795 1.570796326795 0" xyz="0 0 0"/>
      <material name="dark_grey"/>
      <geometry name="LElb_visual">
        <mesh filename="meshes/Elbow.STL" scale="1.0 1.0 1.0"/>
      </geometry>
    </visual>
    <collision>
      <origin rpy="-1.570796326795 1.570796326795 0" xyz="0 0 0"/>
      <geometry name="LElb_collision">
        <mesh filename="meshes/simple/Elbow.STL" scale="1.0 1.0 1.0"/>
      </geometry>
    </collision>
  </link>
  <!-- JOINTS -->
  <!-- RIGHT ARM -->
  <joint name="RShSag" type="revolute">
    <parent link="DWYTorso"/>
    <child link="RShp"/>
    <origin rpy="0 0 0" xyz="-0.014976503999999998 -0.0825 0.15770847"/>
    <axis xyz="0 1 0"/>
    <limit effort="50" lower="-3.4034" upper="1.6581" velocity="4.0"/>
    <dynamics damping="3.0" friction="0"/>
  </joint>
  <joint name="RShLat" type="revolute">
    <parent link="RShp"/>
    <child link="RShr"/>
    <origin rpy="0 0 0" xyz="0.0 -0.07329999999999999 0.0"/>
    <axis xyz="1 0 0"/>
    <limit effort="50" lower="-2.094" upper="0.31415" velocity="4.0"/>
    <dynamics damping="3.0" friction="0"/>
  </joint>
  <joint name="RShYaw" type="revolute">
    <parent link="RShr"/>
    <child link="RShy"/>
    <origin rpy="0 0 0" xyz="0.0 0.0 -0.04480846999999999"/>
    <axis xyz="0 0 1"/>
    <limit effort="50" lower="-1.5708" upper="1.5708" velocity="4.0"/>
    <dynamics damping="3.0" friction="0"/>
  </joint>
  <joint name="RElbj" type="revolute">
    <parent link="RShy"/>
    <child link="RElb"/>
    <origin rpy="0 0 0" xyz="0.015 0.0 -0.13519152999999998"/>
    <axis xyz="0 1 0"/>
    <limit effort="50" lower="-2.3562" upper="0.0" velocity="4.0"/>
    <dynamics damping="3.0" friction="0"/>
  </joint>
  <!-- LEFT ARM -->
  <joint name="LShSag" type="revolute">
    <parent link="DWYTorso"/>
    <child link="LShp"/>
    <origin rpy="0 0 0" xyz="-0.014976503999999998 0.0825 0.15770847"/>
    <axis xyz="0 1 0"/>
    <limit effort="50" lower="-3.4034" upper="1.6581" velocity="4.0"/>
    <dynamics damping="3.0" friction="0"/>
  </joint>
  <joint name="LShLat" type="revolute">
    <parent link="LShp"/>
    <child link="LShr"/>
    <origin rpy="0 0 0" xyz="0.0 0.07329999999999999 0.0"/>
    <axis xyz="1 0 0"/>
    <limit effort="50" lower="-0.31415" upper="2.094" velocity="4.0"/>
    <dynamics damping="3.0" friction="0"/>
  </joint>
  <joint name="LShYaw" type="revolute">
    <parent link="LShr"/>
    <child link="LShy"/>
    <origin rpy="0 0 0" xyz="0.0 0.0 -0.04480846999999999"/>
    <axis xyz="0 0 1"/>
    <limit effort="50" lower="-1.5708" upper="1.5708" velocity="4.0"/>
    <dynamics damping="3.0" friction="0"/>
  </joint>
  <joint name="LElbj" type="revolute">
    <parent link="LShy"/>
    <child link="LElb"/>
    <origin rpy="0 0 0" xyz="0.015 0.0 -0.13519152999999998"/>
    <axis xyz="0 1 0"/>
    <limit effort="50" lower="-2.3562" upper="0.0" velocity="4.0"/>
    <dynamics damping="3.0" friction="0"/>
  </joint>
  <!-- ************ FOREARMS ************ -->
  <!-- This links are defined in order to be compliant with http://www.ros.org/reps/rep-0120.html#coordinate-frames
and to define the end effectors of the robot -->
  <!-- position and orientation of the arm regardless of the tool (grasping device for instance) attached to it -->
  <link name="l_wrist">
    <inertial>
      <origin rpy="0.0 0.0 0.0" xyz="0.0 0.0 0.0"/>
      <mass value="0.0"/>
      <inertia ixx="0.0" ixy="0.0" ixz="0.0" iyy="0.0" iyz="0.0" izz="0.0"/>
    </inertial>
  </link>
  <link name="r_wrist">
    <inertial>
      <origin rpy="0.0 0.0 0.0" xyz="0.0 0.0 0.0"/>
      <mass value="0.0"/>
      <inertia ixx="0.0" ixy="0.0" ixz="0.0" iyy="0.0" iyz="0.0" izz="0.0"/>
    </inertial>
  </link>
  <!-- distance from last motor to FT sensor 
		The value needs to be subtracted to the *FOrearmPlate joint z origin,
		and in order to be compensated in the following joint and link,
		it neeeds to be added in return to the following joint (*Wrj1) z origin
		and to the z displacement of mass, visual and collision of *Forearm -->
  <!-- ****************LINKS**************** -->
  <!-- ****************LEFT FOREARM**************** -->
  <!-- ## WRONG NUMBERS FOR INERTIAL!!! FIX THEM!! ## -->
  <!-- In ROBOTRAN this link is named LFARM -->
  <link name="LForearm">
    <inertial>
      <origin rpy="0 0 0" xyz="0 0 -0.0282"/>
      <mass value="0.93351655"/>
      <inertia ixx="0.001" ixy="0.0" ixz="0.0" iyy="0.001" iyz="0.0" izz="0.001"/>
    </inertial>
    <visual>
      <origin rpy="3.14159265359 0 1.570796326795" xyz="0 0 0.0718"/>
      <material name="dark_grey"/>
      <geometry name="LForearm_visual">
        <mesh filename="meshes/Forearm0.STL" scale="0.1 0.1 0.1"/>
      </geometry>
    </visual>
    <collision>
      <origin rpy="0 3.14159265359 1.570796326795" xyz="0 0 0.0718"/>
      <geometry name="LForearm_collision">
        <mesh filename="meshes/simple/Forearm0.STL" scale="1.0 1.0 1.0"/>
      </geometry>
    </collision>
  </link>
  <!-- ## WRONG NUMBERS FOR INERTIAL!!! FIX THEM!! ## -->
  <!-- Here I have used the inertia of a full cylinder with r = 0.02 [m] and h = 0.07 [m] -->
  <link name="LWrMot2">
    <inertial>
      <origin rpy="0 0 0" xyz="0 0 0"/>
      <mass value="0.26070556"/>
      <inertia ixx="0.000132" ixy="0" ixz="0" iyy="0.000132" iyz="0" izz="5.213E-5"/>
    </inertial>
    <visual>
      <origin rpy="0 1.570796326795 3.14159265359" xyz="0.025 0 0"/>
      <material name="grey"/>
      <geometry name="LWrMot2_visual">
        <mesh filename="meshes/Forearm1.STL" scale="0.001 0.001 0.001"/>
      </geometry>
    </visual>
    <collision>
      <origin rpy="0 1.570796326795 3.14159265359" xyz="0.025 0 0"/>
      <geometry name="LWrMot2_collision">
        <mesh filename="meshes/simple/Forearm1.STL" scale="0.001 0.001 0.001"/>
      </geometry>
    </collision>
  </link>
  <!-- ## WRONG NUMBERS FOR INERTIAL!!! FIX THEM!! ## -->
  <!-- Here I have used the inertia of a concave cylinder with r = 0.02 [m] -->
  <link name="LWrMot3">
    <inertial>
      <origin rpy="0 0 0" xyz="0 0 0"/>
      <mass value="0.054007518"/>
      <inertia ixx="2.16E-5" ixy="0" ixz="0" iyy="2.16E-5" iyz="0" izz="2.16E-5"/>
    </inertial>
    <visual>
      <origin rpy="0 3.14159265359 1.570796326795" xyz="0.025 -0.012 -0.02"/>
      <material name="grey"/>
      <geometry name="LWrMot3_visual">
        <mesh filename="meshes/Forearm2.STL" scale="0.001 0.001 0.001"/>
      </geometry>
    </visual>
    <collision>
      <origin rpy="0 3.14159265359 1.570796326795" xyz="0.025 -0.012 -0.02"/>
      <geometry name="LWrMot3_collision">
        <mesh filename="meshes/simple/Forearm2.STL" scale="0.001 0.001 0.001"/>
      </geometry>
    </collision>
  </link>
  <!-- ****************RIGHT FOREARM**************** -->
  <!-- ## WRONG NUMBERS FOR INERTIAL!!! FIX THEM!! ## -->
  <!-- In ROBOTRAN this link is named RFArm -->
  <link name="RForearm">
    <inertial>
      <origin rpy="0 0 0" xyz="0 0 -0.0282"/>
      <mass value="0.93351655"/>
      <inertia ixx="0.001" ixy="0.0" ixz="0.0" iyy="0.001" iyz="0.0" izz="0.001"/>
    </inertial>
    <visual>
      <origin rpy="3.14159265359 0 1.570796326795" xyz="0 0 0.0718"/>
      <material name="dark_grey"/>
      <geometry name="RForearm_visual">
        <mesh filename="meshes/Forearm0.STL" scale="0.1 0.1 0.1"/>
      </geometry>
    </visual>
    <collision>
      <origin rpy="0 3.14159265359 1.570796326795" xyz="0 0 0.0718"/>
      <geometry name="RForearm_collision">
        <mesh filename="meshes/simple/Forearm0.STL" scale="1.0 1.0 1.0"/>
      </geometry>
    </collision>
  </link>
  <!-- ## WRONG NUMBERS FOR INERTIAL!!! FIX THEM!! ## -->
  <!-- Here I have used the inertia of a full cylinder with r = 0.02 [m] and h = 0.07 [m] -->
  <link name="RWrMot2">
    <inertial>
      <origin rpy="0 0 0" xyz="0 0 0"/>
      <mass value="0.26070556"/>
      <inertia ixx="0.000132" ixy="0" ixz="0" iyy="0.000132" iyz="0" izz="5.213E-5"/>
    </inertial>
    <visual>
      <origin rpy="0 1.570796326795 3.14159265359" xyz="0.025 0 0"/>
      <material name="grey"/>
      <geometry name="RWrMot2_visual">
        <mesh filename="meshes/Forearm1.STL" scale="0.001 0.001 0.001"/>
      </geometry>
    </visual>
    <collision>
      <origin rpy="0 1.570796326795 3.14159265359" xyz="0.025 0 0"/>
      <geometry name="RWrMot2_collision">
        <mesh filename="meshes/simple/Forearm1.STL" scale="0.001 0.001 0.001"/>
      </geometry>
    </collision>
  </link>
  <!-- ## WRONG NUMBERS FOR INERTIAL!!! FIX THEM!! ## -->
  <!-- Here I have used the inertia of a concave cylinder with r = 0.02 [m] -->
  <link name="RWrMot3">
    <inertial>
      <origin rpy="0 0 0" xyz="0 0 0"/>
      <mass value="0.054007518"/>
      <inertia ixx="2.16E-5" ixy="0" ixz="0" iyy="2.16E-5" iyz="0" izz="2.16E-5"/>
    </inertial>
    <visual>
      <origin rpy="0 3.14159265359 1.570796326795" xyz="0.025 -0.012 -0.02"/>
      <material name="grey"/>
      <geometry name="RWrMot3_visual">
        <mesh filename="meshes/Forearm2.STL" scale="0.001 0.001 0.001"/>
      </geometry>
    </visual>
    <collision>
      <origin rpy="0 3.14159265359 1.570796326795" xyz="0.025 -0.012 -0.02"/>
      <geometry name="RWrMot3_collision">
        <mesh filename="meshes/simple/Forearm2.STL" scale="0.001 0.001 0.001"/>
      </geometry>
    </collision>
  </link>
  <!-- ****************JOINTS**************** -->
  <!-- ****************LEFT FOREARM**************** -->
  <joint name="LForearmPlate" type="revolute">
    <parent link="LElb"/>
    <child link="LForearm"/>
    <origin rpy="0 0 0" xyz="-0.015 0.0 -0.1078"/>
    <axis xyz="0 0 1"/>
    <limit effort="5" lower="-1.5708" upper="1.5708" velocity="4.0"/>
    <dynamics damping="0.03" friction="0"/>
  </joint>
  <joint name="LWrj1" type="revolute">
    <parent link="LForearm"/>
    <child link="LWrMot2"/>
    <origin rpy="0 0 0" xyz="0 0 -0.08688"/>
    <axis xyz="0 1 0"/>
    <limit effort="5" lower="-0.524" upper="0.524" velocity="4.0"/>
    <dynamics damping="0.03" friction="0"/>
  </joint>
  <joint name="LWrj2" type="revolute">
    <parent link="LWrMot2"/>
    <child link="LWrMot3"/>
    <origin rpy="0 0 0" xyz="0 0 0.0"/>
    <axis xyz="1 0 0"/>
    <limit effort="5" lower="-0.785375" upper="1.395" velocity="4.0"/>
    <dynamics damping="0.03" friction="0"/>
  </joint>
  <joint name="l_wrist_joint" type="fixed">
    <parent link="LWrMot3"/>
    <child link="l_wrist"/>
    <origin rpy="0 0 0" xyz="0 0 0"/>
  </joint>
  <!-- ****************RIGHT FOREARM**************** -->
  <joint name="RForearmPlate" type="revolute">
    <parent link="RElb"/>
    <child link="RForearm"/>
    <origin rpy="0 0 0" xyz="-0.015 0.0 -0.1078"/>
    <axis xyz="0 0 1"/>
    <limit effort="5" lower="-1.5708" upper="1.5708" velocity="4.0"/>
    <dynamics damping="0.03" friction="0"/>
  </joint>
  <joint name="RWrj1" type="revolute">
    <parent link="RForearm"/>
    <child link="RWrMot2"/>
    <origin rpy="0 0 0" xyz="0 0 -0.08688"/>
    <axis xyz="0 1 0"/>
    <limit effort="5" lower="-0.524" upper="0.524" velocity="4.0"/>
    <dynamics damping="0.03" friction="0"/>
  </joint>
  <joint name="RWrj2" type="revolute">
    <parent link="RWrMot2"/>
    <child link="RWrMot3"/>
    <origin rpy="0 0 0" xyz="0 0 0.0"/>
    <axis xyz="1 0 0"/>
    <limit effort="5" lower="-1.395" upper="0.785375" velocity="4.0"/>
    <dynamics damping="0.03" friction="0"/>
  </joint>
  <joint name="r_wrist_joint" type="fixed">
    <parent link="RWrMot3"/>
    <child link="r_wrist"/>
    <origin rpy="0 0 0" xyz="0 0 0"/>
  </joint>
  <link name="l_arm_ft">
    <inertial>
      <origin rpy="0.0 0.0 0.0" xyz="0.0 0.0 0.0"/>
      <mass value="0.0"/>
      <inertia ixx="0.0" ixy="0.0" ixz="0.0" iyy="0.0" iyz="0.0" izz="0.0"/>
    </inertial>
  </link>
  <link name="r_arm_ft">
    <inertial>
      <origin rpy="0.0 0.0 0.0" xyz="0.0 0.0 0.0"/>
      <mass value="0.0"/>
      <inertia ixx="0.0" ixy="0.0" ixz="0.0" iyy="0.0" iyz="0.0" izz="0.0"/>
    </inertial>
  </link>
  <joint name="l_arm_ft_joint" type="fixed">
    <parent link="LForearm"/>
    <child link="l_arm_ft"/>
    <origin rpy="0 0 0" xyz="0 0 0"/>
  </joint>
  <joint name="r_arm_ft_joint" type="fixed">
    <parent link="RForearm"/>
    <child link="r_arm_ft"/>
    <origin rpy="0 0 0" xyz="0 0 0"/>
  </joint>
  <link name="l_leg_ft">
    <inertial>
      <origin rpy="0.0 0.0 0.0" xyz="0.0 0.0 0.0"/>
      <mass value="0.0"/>
      <inertia ixx="0.0" ixy="0.0" ixz="0.0" iyy="0.0" iyz="0.0" izz="0.0"/>
    </inertial>
  </link>
  <link name="r_leg_ft">
    <inertial>
      <origin rpy="0.0 0.0 0.0" xyz="0.0 0.0 0.0"/>
      <mass value="0.0"/>
      <inertia ixx="0.0" ixy="0.0" ixz="0.0" iyy="0.0" iyz="0.0" izz="0.0"/>
    </inertial>
  </link>
  <joint name="l_leg_ft_joint" type="fixed">
    <parent link="LFoot"/>
    <child link="l_leg_ft"/>
    <origin rpy="0 0 0" xyz="0 0 -0.065"/>
  </joint>
  <joint name="r_leg_ft_joint" type="fixed">
    <parent link="RFoot"/>
    <child link="r_leg_ft"/>
    <origin rpy="0 0 0" xyz="0 0 -0.065"/>
  </joint>
  <!-- ************ HANDS ************ -->
  <!-- LINKS -->
  <link name="RSoftHand">
    <inertial>
      <origin rpy="0 0 0" xyz="0 0 0"/>
      <mass value="0.3"/>
      <inertia ixx="0.001" ixy="0" ixz="0" iyy="0.001" iyz="0" izz="0.001"/>
    </inertial>
    <visual>
      <origin rpy="-1.5707963268 0 3.14159265359" xyz="0.007 0.01 -0.04"/>
      <material name="dark_grey"/>
      <geometry name="RSoftHand_visual">
        <mesh filename="meshes/SoftHandOpen.STL" scale="0.1 0.1 0.1"/>
      </geometry>
    </visual>
    <collision>
      <origin rpy="0 0 3.14159265359" xyz="0 0.01 -0.04"/>
      <geometry name="RSoftHand_collision">
        <mesh filename="meshes/simple/SoftHandOpen.STL" scale="1E-3 1E-3 1E-3"/>
      </geometry>
    </collision>
  </link>
  <link name="LSoftHand">
    <inertial>
      <origin rpy="0 0 0" xyz="0 0 0"/>
      <mass value="0.3"/>
      <inertia ixx="0.001" ixy="0" ixz="0" iyy="0.001" iyz="0" izz="0.001"/>
    </inertial>
    <visual>
      <origin rpy="-1.5707963268 0 0" xyz="0.007 -0.01 -0.04"/>
      <material name="dark_grey"/>
      <geometry name="LSoftHand_visual">
        <mesh filename="meshes/SoftHandOpen.STL" scale="-0.1 0.1 0.1"/>
      </geometry>
    </visual>
    <collision>
      <origin rpy="0 0 0" xyz="0.007 -0.01 -0.04"/>
      <geometry name="LSoftHand_collision">
        <mesh filename="meshes/simple/SoftHandOpen.STL" scale="-1E-3 1E-3 1E-3"/>
      </geometry>
    </collision>
  </link>
  <!-- JOINTS -->
  <joint name="r_handj" type="fixed">
    <parent link="RWrMot3"/>
    <child link="RSoftHand"/>
    <origin rpy="0 0 0" xyz="0 0 -0.07"/>
  </joint>
  <joint name="l_handj" type="fixed">
    <parent link="LWrMot3"/>
    <child link="LSoftHand"/>
    <origin rpy="0 0 0" xyz="0 0 -0.07"/>
  </joint>
  <!-- Reference frames in hands -->
  <!-- macro for reference frames in hand -->
  <!-- macro for one reference frame in hand -->
  <link name="l_hand_upper_right_link">
    <inertial>
      <origin rpy="0.0 0.0 0.0" xyz="0.0 0.0 0.0"/>
      <mass value="0.0"/>
      <inertia ixx="0.0" ixy="0.0" ixz="0.0" iyy="0.0" iyz="0.0" izz="0.0"/>
    </inertial>
  </link>
  <joint name="l_hand_upper_right_joint" type="fixed">
    <origin rpy="0 0 0" xyz="0.04 0 -0.03"/>
    <parent link="LSoftHand"/>
    <child link="l_hand_upper_right_link"/>
  </joint>
  <!-- macro for one reference frame in hand -->
  <link name="l_hand_upper_left_link">
    <inertial>
      <origin rpy="0.0 0.0 0.0" xyz="0.0 0.0 0.0"/>
      <mass value="0.0"/>
      <inertia ixx="0.0" ixy="0.0" ixz="0.0" iyy="0.0" iyz="0.0" izz="0.0"/>
    </inertial>
  </link>
  <joint name="l_hand_upper_left_joint" type="fixed">
    <origin rpy="0 0 0" xyz="0.04 0 0.03"/>
    <parent link="LSoftHand"/>
    <child link="l_hand_upper_left_link"/>
  </joint>
  <!-- macro for one reference frame in hand -->
  <link name="l_hand_lower_right_link">
    <inertial>
      <origin rpy="0.0 0.0 0.0" xyz="0.0 0.0 0.0"/>
      <mass value="0.0"/>
      <inertia ixx="0.0" ixy="0.0" ixz="0.0" iyy="0.0" iyz="0.0" izz="0.0"/>
    </inertial>
  </link>
  <joint name="l_hand_lower_right_joint" type="fixed">
    <origin rpy="0 0 0" xyz="-0.04 0 -0.03"/>
    <parent link="LSoftHand"/>
    <child link="l_hand_lower_right_link"/>
  </joint>
  <!-- macro for one reference frame in hand -->
  <link name="l_hand_lower_left_link">
    <inertial>
      <origin rpy="0.0 0.0 0.0" xyz="0.0 0.0 0.0"/>
      <mass value="0.0"/>
      <inertia ixx="0.0" ixy="0.0" ixz="0.0" iyy="0.0" iyz="0.0" izz="0.0"/>
    </inertial>
  </link>
  <joint name="l_hand_lower_left_joint" type="fixed">
    <origin rpy="0 0 0" xyz="-0.04 0 0.03"/>
    <parent link="LSoftHand"/>
    <child link="l_hand_lower_left_link"/>
  </joint>
  <!-- macro for reference frames in hand -->
  <!-- macro for one reference frame in hand -->
  <link name="r_hand_upper_right_link">
    <inertial>
      <origin rpy="0.0 0.0 0.0" xyz="0.0 0.0 0.0"/>
      <mass value="0.0"/>
      <inertia ixx="0.0" ixy="0.0" ixz="0.0" iyy="0.0" iyz="0.0" izz="0.0"/>
    </inertial>
  </link>
  <joint name="r_hand_upper_right_joint" type="fixed">
    <origin rpy="0 0 0" xyz="0.04 0 -0.03"/>
    <parent link="RSoftHand"/>
    <child link="r_hand_upper_right_link"/>
  </joint>
  <!-- macro for one reference frame in hand -->
  <link name="r_hand_upper_left_link">
    <inertial>
      <origin rpy="0.0 0.0 0.0" xyz="0.0 0.0 0.0"/>
      <mass value="0.0"/>
      <inertia ixx="0.0" ixy="0.0" ixz="0.0" iyy="0.0" iyz="0.0" izz="0.0"/>
    </inertial>
  </link>
  <joint name="r_hand_upper_left_joint" type="fixed">
    <origin rpy="0 0 0" xyz="0.04 0 0.03"/>
    <parent link="RSoftHand"/>
    <child link="r_hand_upper_left_link"/>
  </joint>
  <!-- macro for one reference frame in hand -->
  <link name="r_hand_lower_right_link">
    <inertial>
      <origin rpy="0.0 0.0 0.0" xyz="0.0 0.0 0.0"/>
      <mass value="0.0"/>
      <inertia ixx="0.0" ixy="0.0" ixz="0.0" iyy="0.0" iyz="0.0" izz="0.0"/>
    </inertial>
  </link>
  <joint name="r_hand_lower_right_joint" type="fixed">
    <origin rpy="0 0 0" xyz="-0.04 0 -0.03"/>
    <parent link="RSoftHand"/>
    <child link="r_hand_lower_right_link"/>
  </joint>
  <!-- macro for one reference frame in hand -->
  <link name="r_hand_lower_left_link">
    <inertial>
      <origin rpy="0.0 0.0 0.0" xyz="0.0 0.0 0.0"/>
      <mass value="0.0"/>
      <inertia ixx="0.0" ixy="0.0" ixz="0.0" iyy="0.0" iyz="0.0" izz="0.0"/>
    </inertial>
  </link>
  <joint name="r_hand_lower_left_joint" type="fixed">
    <origin rpy="0 0 0" xyz="-0.04 0 0.03"/>
    <parent link="RSoftHand"/>
    <child link="r_hand_lower_left_link"/>
  </joint>
  <!-- IMU -->
  <link name="imu_link">
    <inertial>
      <mass value="0.01"/>
      <origin xyz="0 0 0"/>
      <inertia ixx="1.0E-6" ixy="0" ixz="0" iyy="1.0E-6" iyz="0" izz="1.0E-6"/>
    </inertial>
    <visual>
      <origin rpy="0 0 0" xyz="0 0 0"/>
      <geometry>
        <box size="0.01 0.01 0.01"/>
      </geometry>
    </visual>
  </link>
  <joint name="imu_joint" type="fixed">
    <parent link="Waist"/>
    <child link="imu_link"/>
    <!--origin xyz="-0.072 -0.0068 0.044" rpy="0 ${PI} 0"/-->
    <origin rpy="0 0 0" xyz="-0.072 -0.0068 0.044"/>
  </joint>
</robot>
